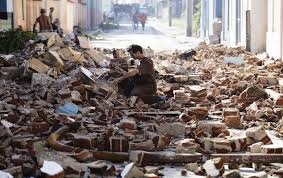rubble: (15, 39, 282, 178)
